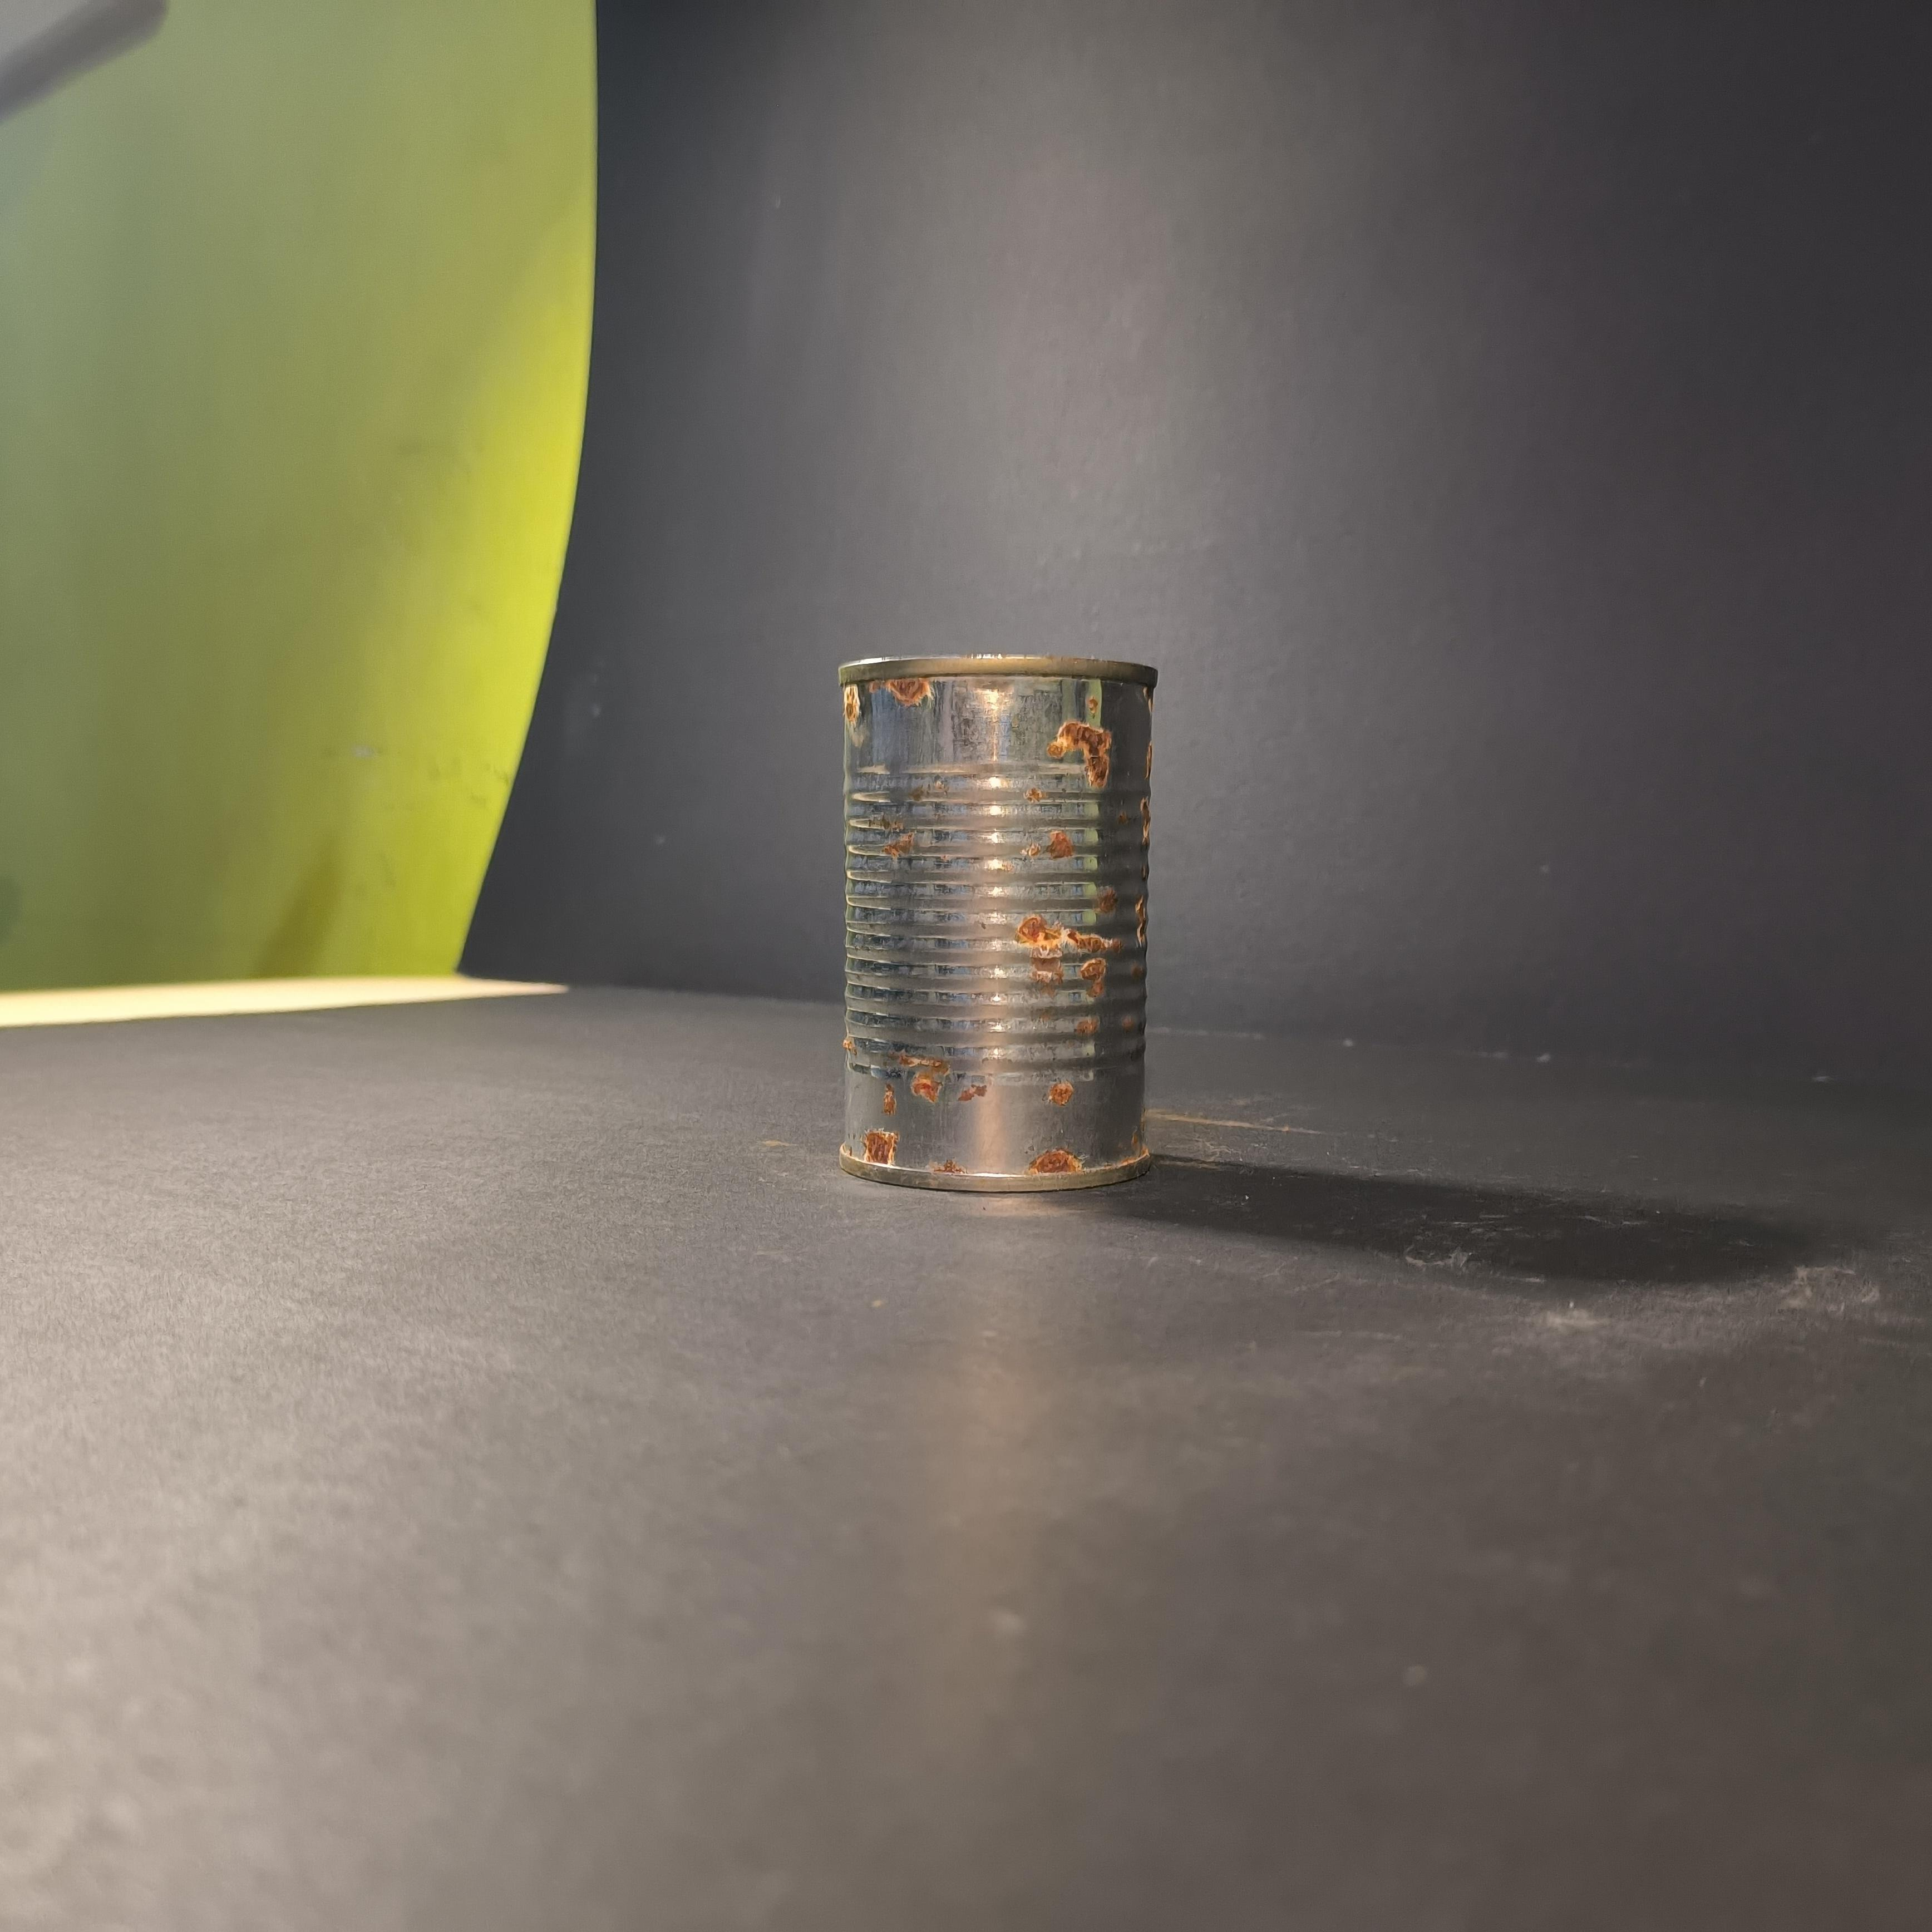Rusted: (824, 626, 1163, 1210)
